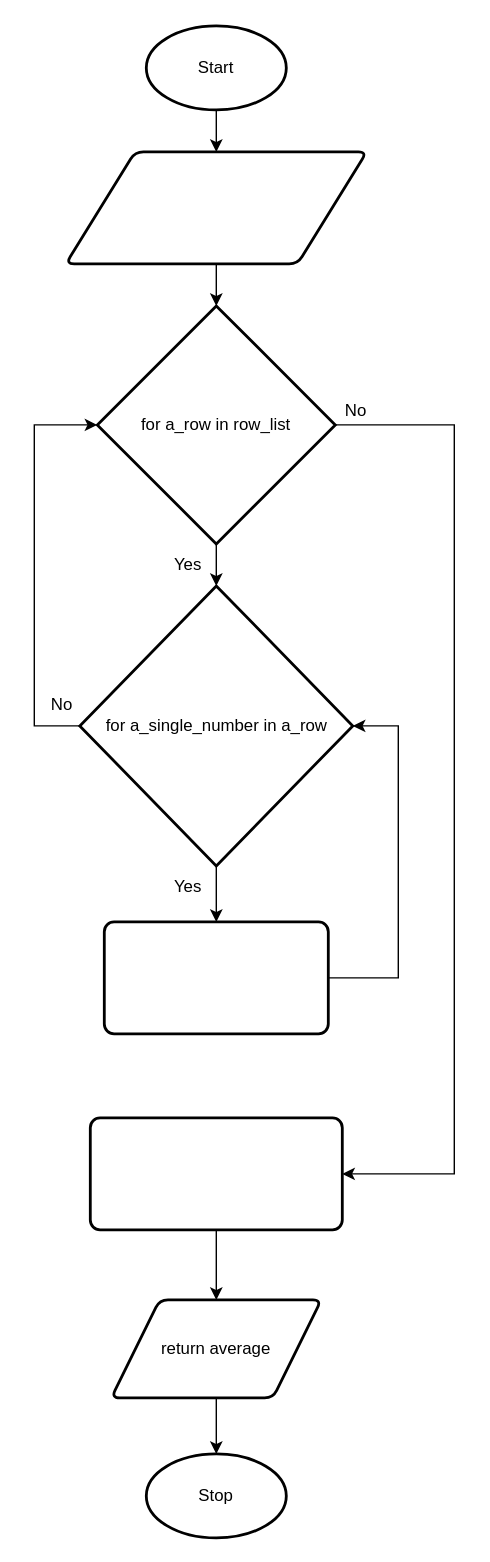
This 490x1562 diagram has some shape labels left out. The box of each missing label's shape, as (x1, y1, x2, y2) in pixels:
average = total / (row_integer * column_integer): (88, 1116, 343, 1231)
pull row_list, row_integer, column_integer: (64, 150, 368, 265)
total = total + a_single_number: (102, 920, 329, 1035)
